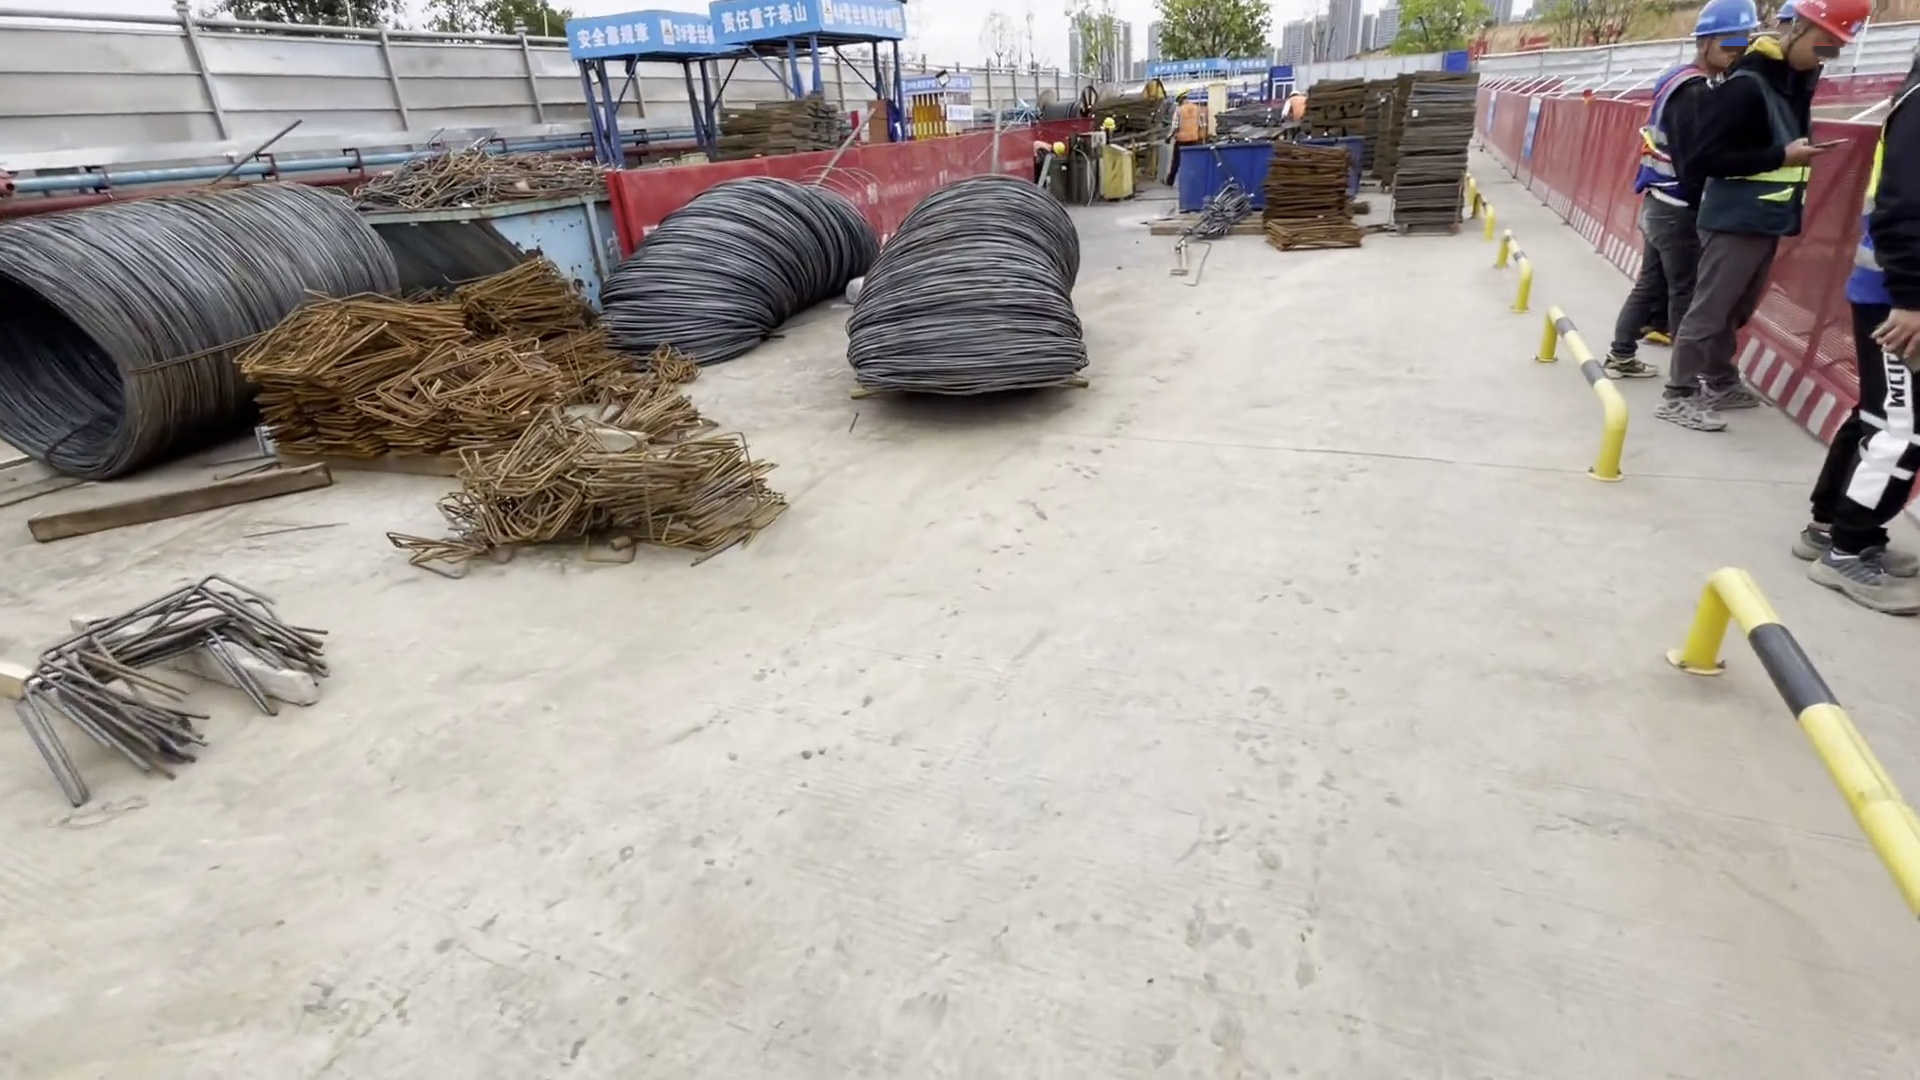fence: (610, 132, 1046, 252), (1474, 80, 1636, 265)
helmet: (1688, 1, 1765, 40), (1800, 1, 1861, 43), (1050, 142, 1065, 155), (1101, 117, 1114, 127)
hopper: (1176, 149, 1269, 216)
person: (1680, 1, 1846, 429), (1615, 1, 1741, 371), (1165, 91, 1202, 187), (1029, 135, 1060, 188), (1283, 86, 1308, 129)
slogan: (711, 1, 808, 33), (572, 23, 649, 50)
vest: (1633, 76, 1675, 193), (1177, 104, 1200, 144)
